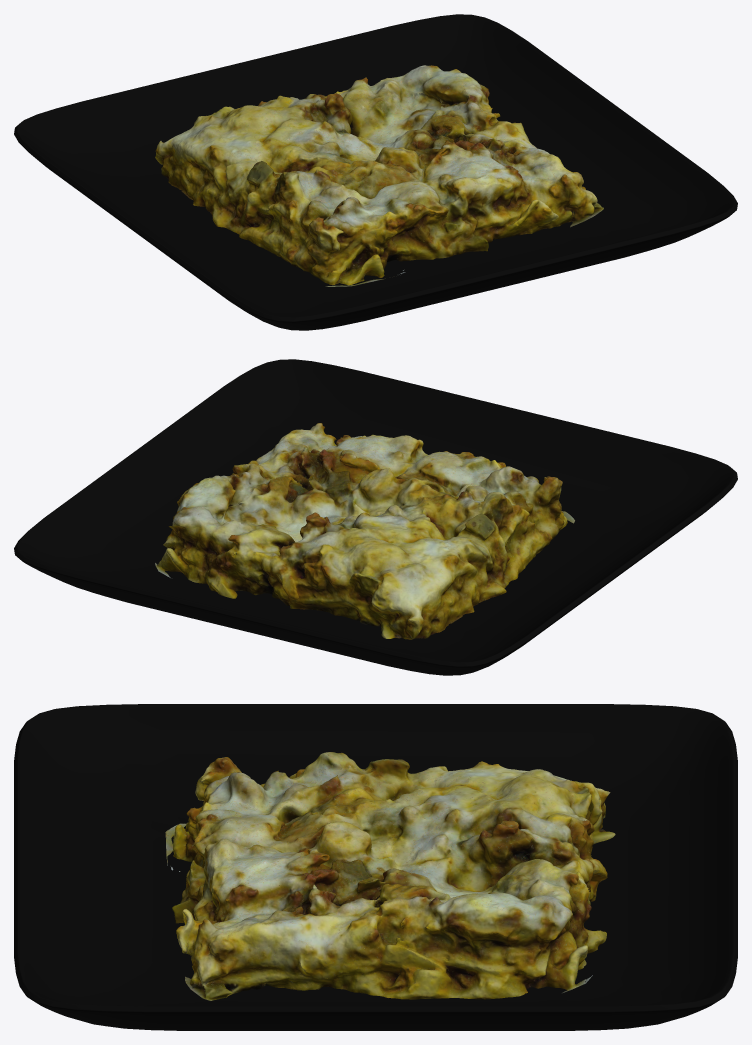
The model's file is lazania.glb.
The picture shows the model from 3 angles, top to bottom: view 1: azimuth 30°, elevation 25°; view 2: azimuth 150°, elevation 25°; view 3: azimuth 270°, elevation 25°; orthographic projection. The views are drawn at different scales.
Parts seen in each view (by area): view 1: default_triangles, lazania4096; view 2: default_triangles, lazania4096; view 3: default_triangles, lazania4096.
Boxes of the visible parts, box(x1,y1,x2,y2) form: default_triangles: box(14, 14, 737, 330); lazania4096: box(155, 65, 603, 286); default_triangles: box(14, 359, 737, 675); lazania4096: box(155, 423, 574, 639); default_triangles: box(14, 704, 737, 1030); lazania4096: box(165, 752, 615, 1000).
Bounding box in the file's own units: 0.1276 × 0.0183 × 0.1276.
2 materials, 1 textured.
